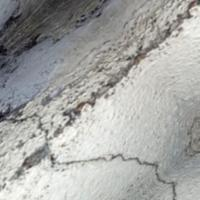crack: (0, 98, 172, 199)
